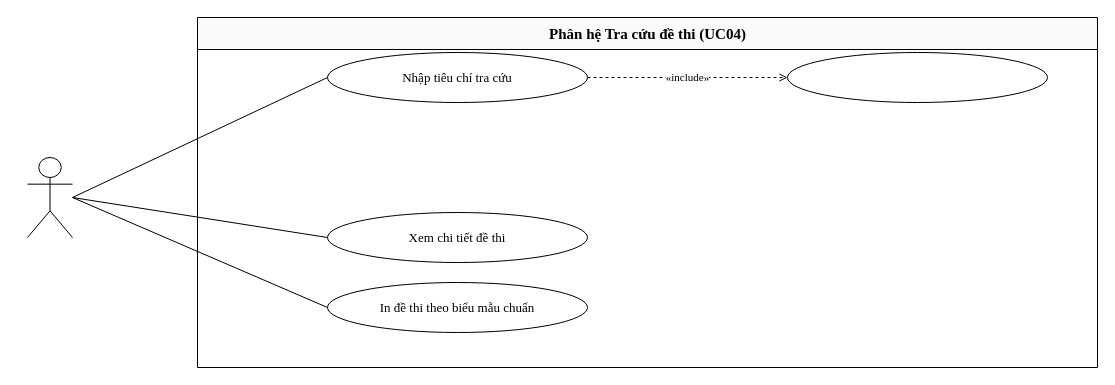
This 1115x385 diagram has some shape labels left out. The centre of each missing label's shape, as x and y in pixels:
Giảng viên: point (49, 197)
Lọc đề trong phạm vi tài khoản: point (917, 77)
